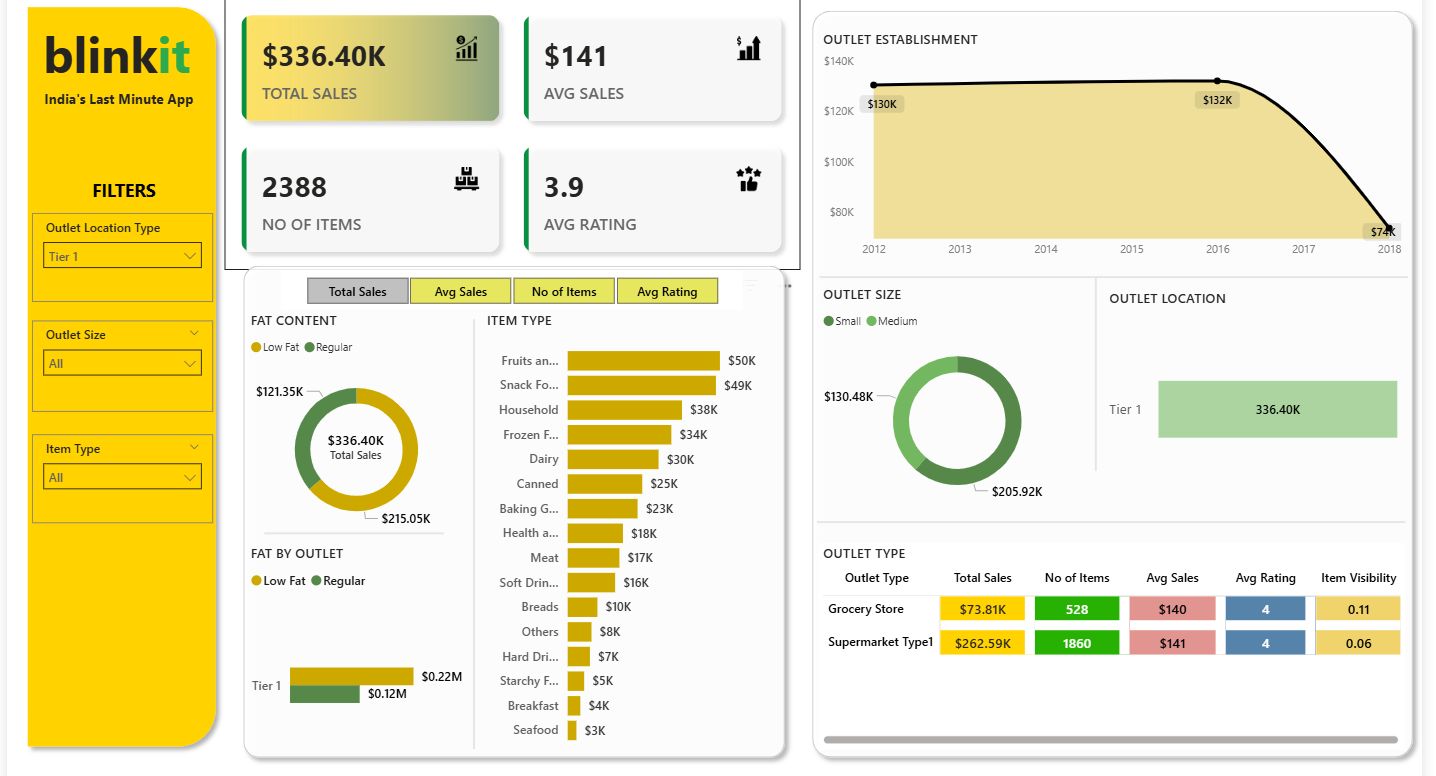

What the dashboard file says about the page in this screenshot:
{"tool":"powerbi","page":{"name":"Page 1","canvas":[1400,800],"ordinal":0},"visuals":[{"type":"shape","box":[10.9,15,204.5,749.8],"z":0},{"type":"textbox","box":[31.4,32.7,165,83.2],"z":1000},{"type":"textbox","box":[28.9,98.7,167.1,34.2],"z":2000},{"type":"cardVisual","fields":{"Data":["BlinkIT Grocery Data.Total Sales","BlinkIT Grocery Data.Avg Sales","BlinkIT Grocery Data.No of Items","BlinkIT Grocery Data.Avg Rating"]},"box":[215.4,15,569.9,269.9],"z":3000},{"type":"shape","box":[225,271.3,553.5,504.4],"z":4000},{"type":"donutChart","title":"FAT CONTENT","fields":{"Y":["BlinkIT Grocery Data.Total Sales"],"Category":["BlinkIT Grocery Data.Item Fat Content"]},"box":[235.9,324.5,219.5,230.4],"z":5000},{"type":"slicer","fields":{"Values":["Metrics.Metrics"]},"box":[271.3,284.9,456.7,39.5],"z":6000},{"type":"cardVisual","fields":{"Data":["BlinkIT Grocery Data.Total Sales"]},"box":[298.6,425.4,94.1,62.7],"z":7000},{"type":"clusteredBarChart","title":"FAT BY OUTLET","fields":{"Y":["BlinkIT Grocery Data.Total Sales"],"Category":["BlinkIT Grocery Data.Outlet Location Type"],"Series":["BlinkIT Grocery Data.Item Fat Content"]},"box":[236.8,553.9,219.7,230.3],"z":8000},{"type":"shape","box":[254.9,534.4,177.2,20.5],"z":9000},{"type":"shape","box":[454,332.7,16.4,425.4],"z":10000},{"type":"barChart","title":"ITEM TYPE","fields":{"Y":["BlinkIT Grocery Data.Total Sales"],"Category":["BlinkIT Grocery Data.Item Type"]},"box":[470.4,324.5,286.3,440.4],"z":11000},{"type":"shape","box":[788,19.1,612.1,756.7],"z":12000},{"type":"lineChart","title":"OUTLET ESTABLISHMENT","fields":{"Y":["BlinkIT Grocery Data.Total Sales"],"Category":["BlinkIT Grocery Data.Outlet Establishment Year"]},"box":[803,46.4,582.1,234.5],"z":13000},{"type":"shape","box":[804.4,280.8,582.1,20.5],"z":14000},{"type":"donutChart","title":"OUTLET SIZE","fields":{"Y":["BlinkIT Grocery Data.Total Sales"],"Category":["BlinkIT Grocery Data.Outlet Size"]},"box":[803,298.6,275.4,225],"z":15000},{"type":"shape","box":[1070.2,290.4,15,192.2],"z":16000},{"type":"funnel","title":"OUTLET LOCATION","fields":{"Y":["Sum(BlinkIT Grocery Data.Sales)"],"Category":["BlinkIT Grocery Data.Outlet Location Type"]},"box":[1086.6,301.3,299.9,222.2],"z":17000},{"type":"shape","box":[801.6,523.5,582.1,20.5],"z":18000},{"type":"pivotTable","title":"OUTLET TYPE","fields":{"Rows":["BlinkIT Grocery Data.Outlet Type"],"Values":["BlinkIT Grocery Data.Total Sales","BlinkIT Grocery Data.No of Items","BlinkIT Grocery Data.Avg Sales","BlinkIT Grocery Data.Avg Rating","Avg(BlinkIT Grocery Data.Item Visibility)"]},"box":[803,553.5,580.8,204.5],"z":19000},{"type":"slicer","fields":{"Values":["BlinkIT Grocery Data.Outlet Location Type"]},"box":[25,227.6,178.9,88.2],"z":20000},{"type":"slicer","fields":{"Values":["BlinkIT Grocery Data.Outlet Size"]},"box":[25,334.2,178.9,90.8],"z":21000},{"type":"slicer","fields":{"Values":["BlinkIT Grocery Data.Item Type"]},"box":[25,446.1,178.9,88.2],"z":22000},{"type":"shape","title":"FILTERS","box":[72.4,193.4,85.5,25],"z":23000}]}

Visuals, with their boxes on the page's 1400x800 design canvas (x1, y1, x2, y2). These are canvas units, not pixel positions in the 1436x776 screenshot, which may show the page scaled, cropped or inside an application window:
shape: l=11, t=15, r=215, b=765
textbox: l=31, t=33, r=196, b=116
textbox: l=29, t=99, r=196, b=133
cardVisual - BlinkIT Grocery Data.Total Sales x BlinkIT Grocery Data.Avg Sales: l=215, t=15, r=785, b=285
shape: l=225, t=271, r=778, b=776
"FAT CONTENT" donutChart: l=236, t=324, r=455, b=555
slicer - Metrics.Metrics: l=271, t=285, r=728, b=324
cardVisual - BlinkIT Grocery Data.Total Sales: l=299, t=425, r=393, b=488
"FAT BY OUTLET" clusteredBarChart: l=237, t=554, r=456, b=784
shape: l=255, t=534, r=432, b=555
shape: l=454, t=333, r=470, b=758
"ITEM TYPE" barChart: l=470, t=324, r=757, b=765
shape: l=788, t=19, r=1400, b=776
"OUTLET ESTABLISHMENT" lineChart: l=803, t=46, r=1385, b=281
shape: l=804, t=281, r=1386, b=301
"OUTLET SIZE" donutChart: l=803, t=299, r=1078, b=524
shape: l=1070, t=290, r=1085, b=483
"OUTLET LOCATION" funnel: l=1087, t=301, r=1386, b=524
shape: l=802, t=524, r=1384, b=544
"OUTLET TYPE" pivotTable: l=803, t=554, r=1384, b=758
slicer - BlinkIT Grocery Data.Outlet Location Type: l=25, t=228, r=204, b=316
slicer - BlinkIT Grocery Data.Outlet Size: l=25, t=334, r=204, b=425
slicer - BlinkIT Grocery Data.Item Type: l=25, t=446, r=204, b=534
"FILTERS" shape: l=72, t=193, r=158, b=218
